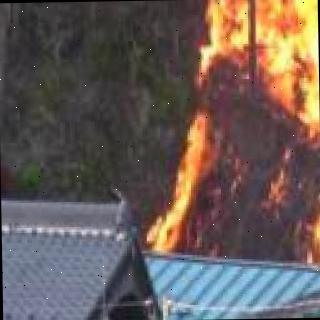fire: (146, 0, 320, 264)
